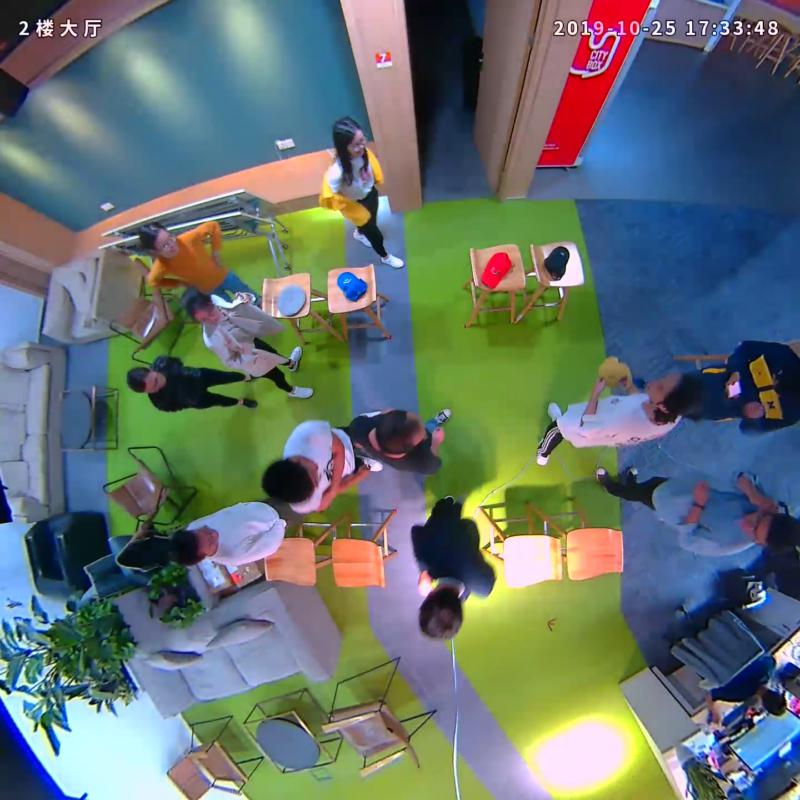head: (645, 370, 703, 421), (260, 458, 320, 503), (418, 585, 465, 640), (741, 511, 799, 551), (375, 409, 425, 455), (170, 527, 218, 566), (331, 116, 367, 157), (138, 222, 177, 256), (185, 291, 221, 325), (126, 364, 166, 394)
